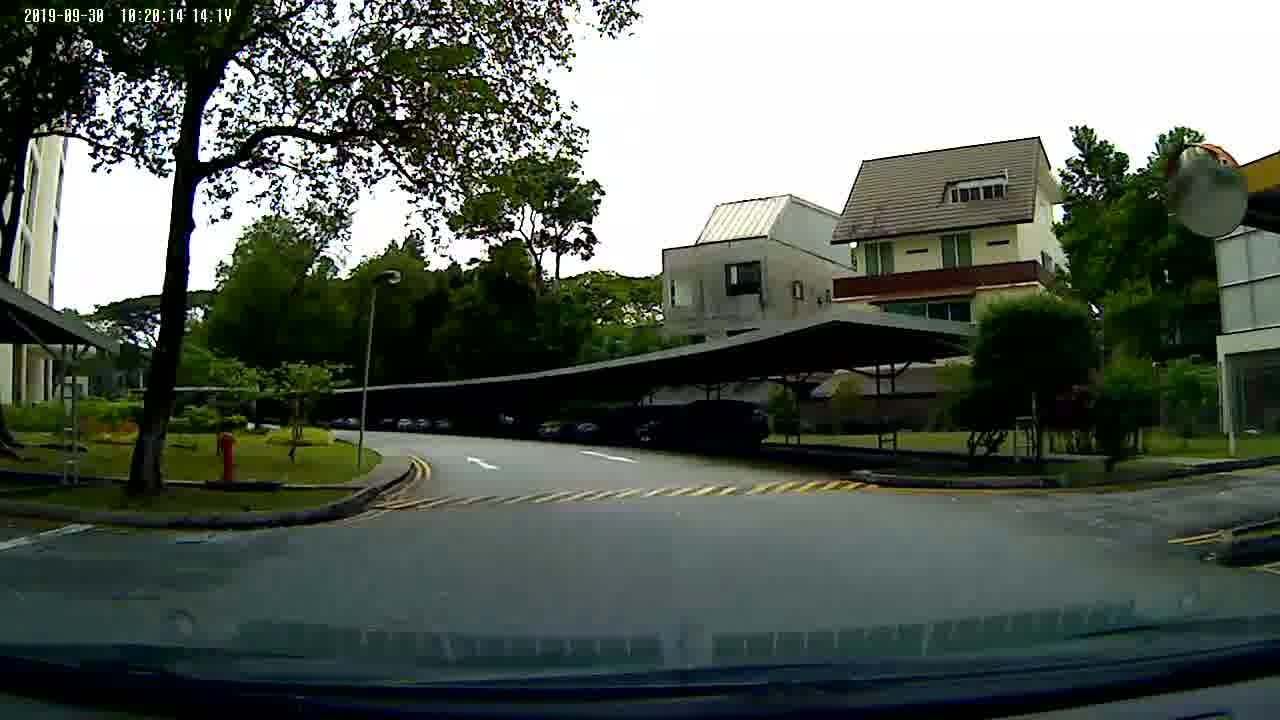car: (631, 399, 774, 457)
